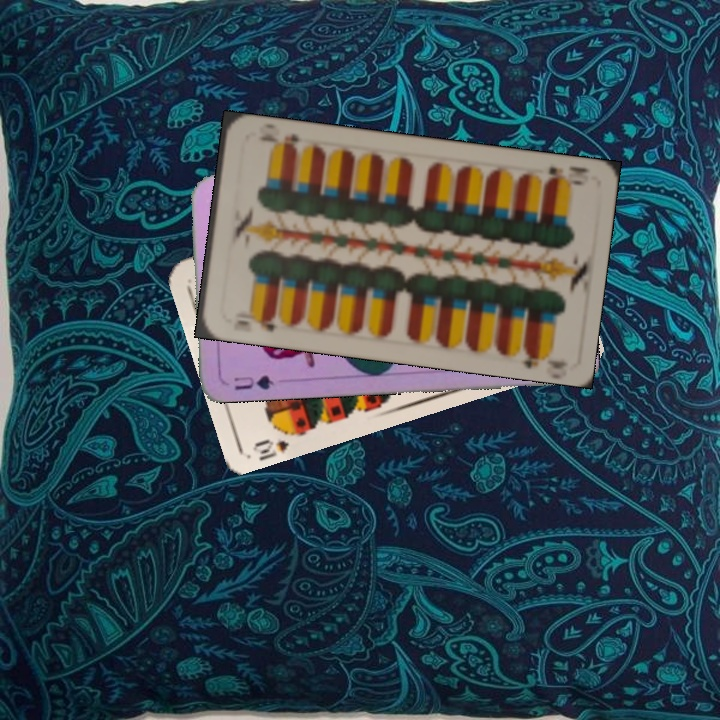E10: (540, 162, 592, 190), (231, 308, 278, 335)
GU: (230, 371, 276, 392)
S10: (248, 426, 302, 463)
